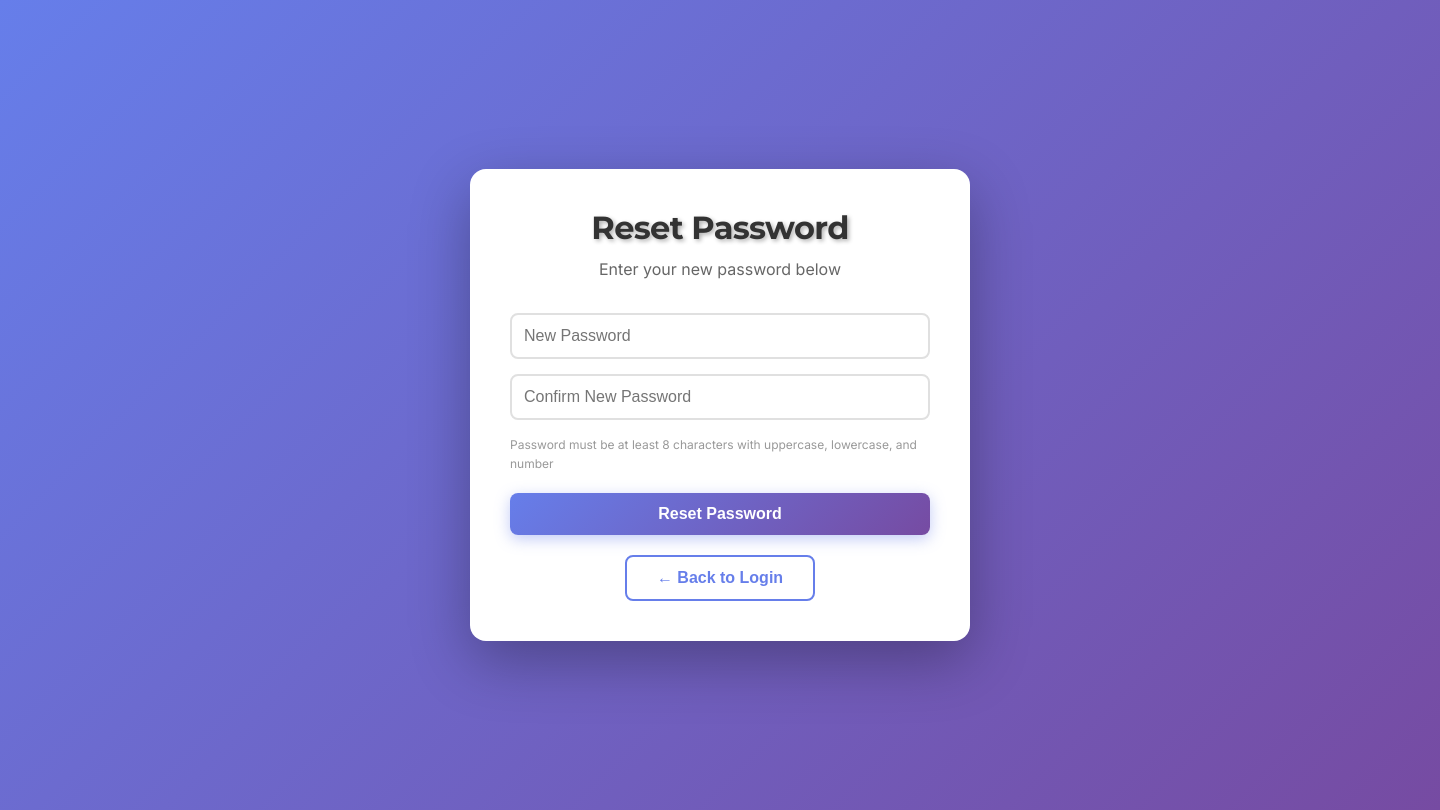
Scenario: ResetPassword Page › shows default error message on failure without specific error
Type "Password123" into the password field with placeholder "New Password".
click(720, 336); type("Password123")  # box x1=510 y1=313 x2=930 y2=359
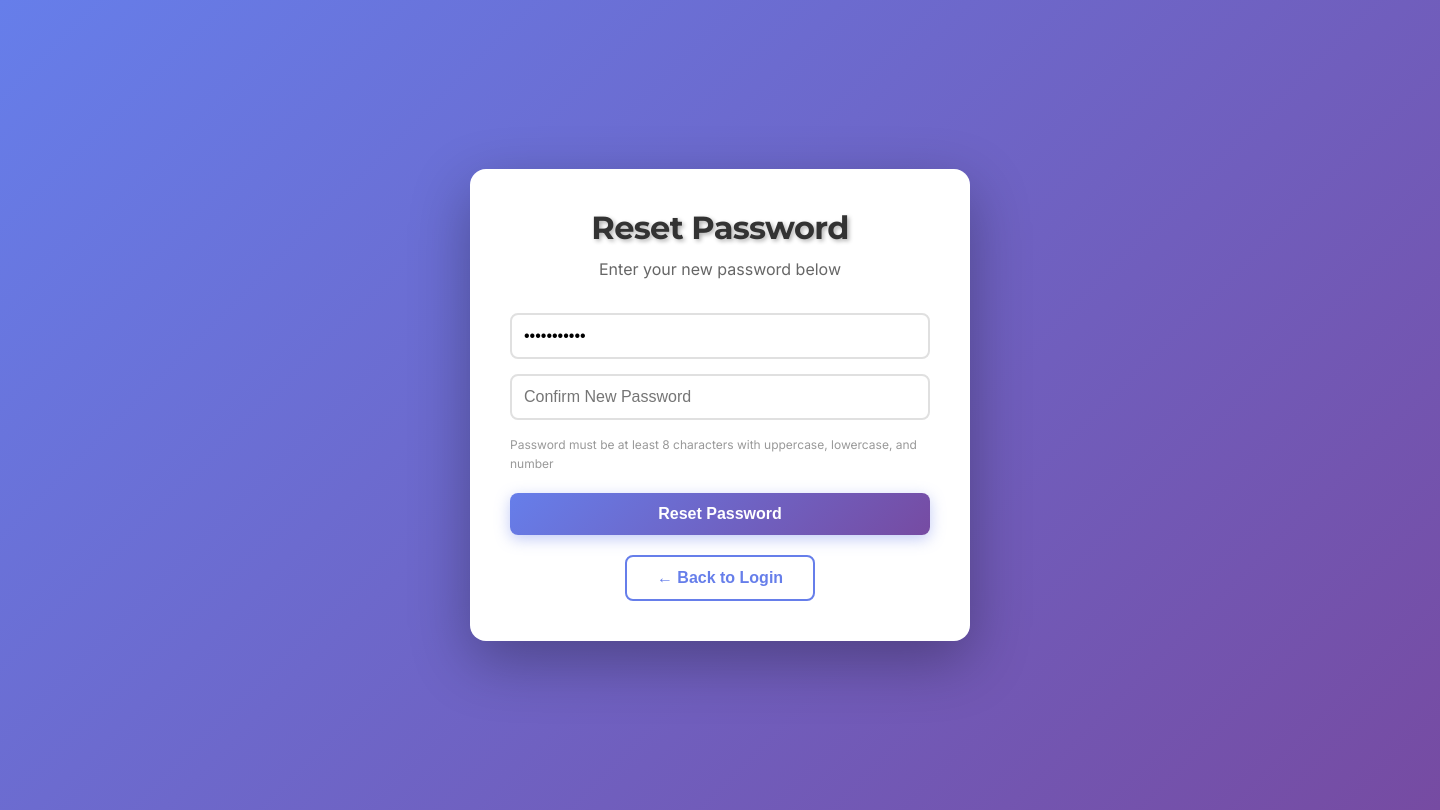
Type "Password123" into the password field with placeholder "Confirm New Password".
click(720, 397); type("Password123")  # box x1=510 y1=374 x2=930 y2=420
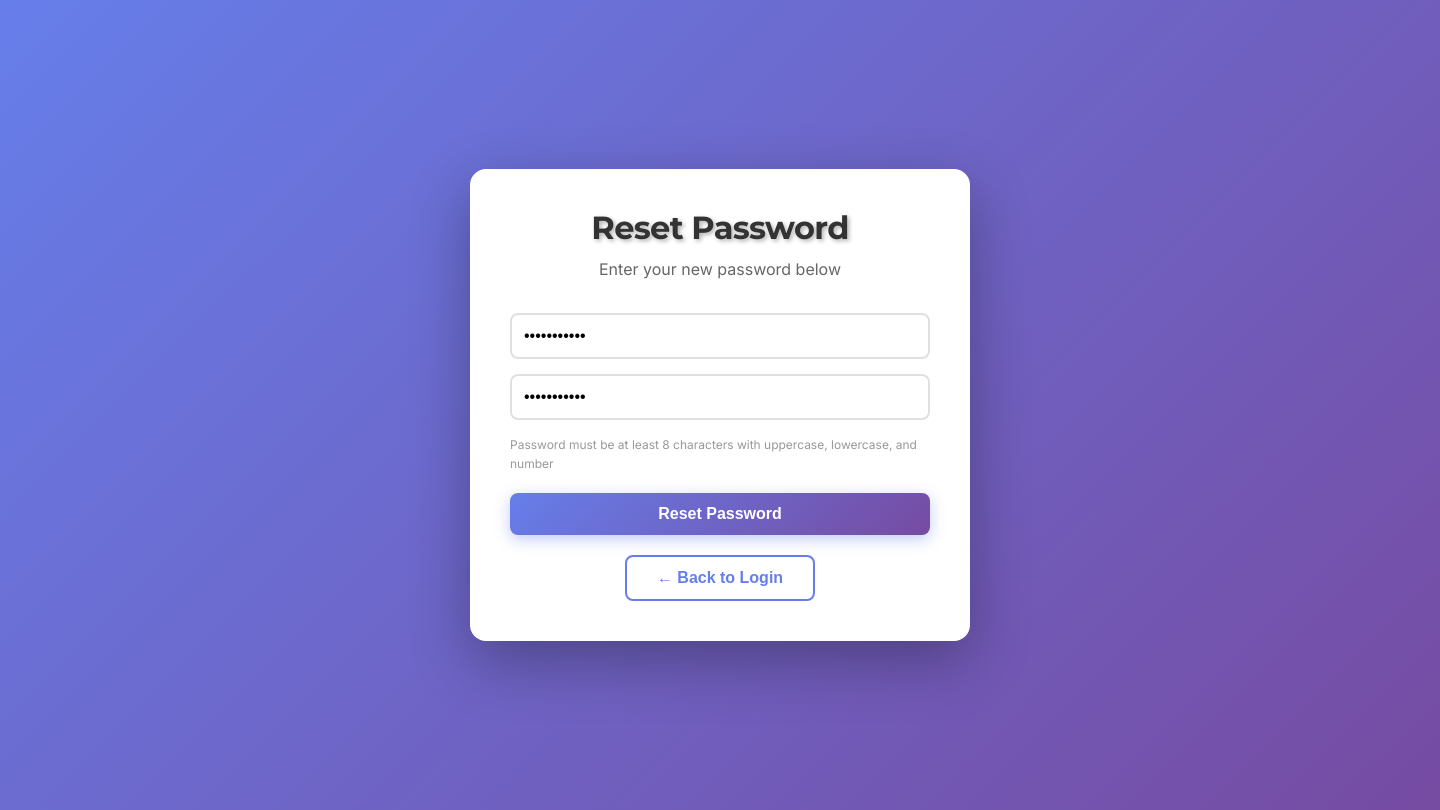
Click the button "Reset Password".
click(720, 514)  # box x1=510 y1=493 x2=930 y2=535
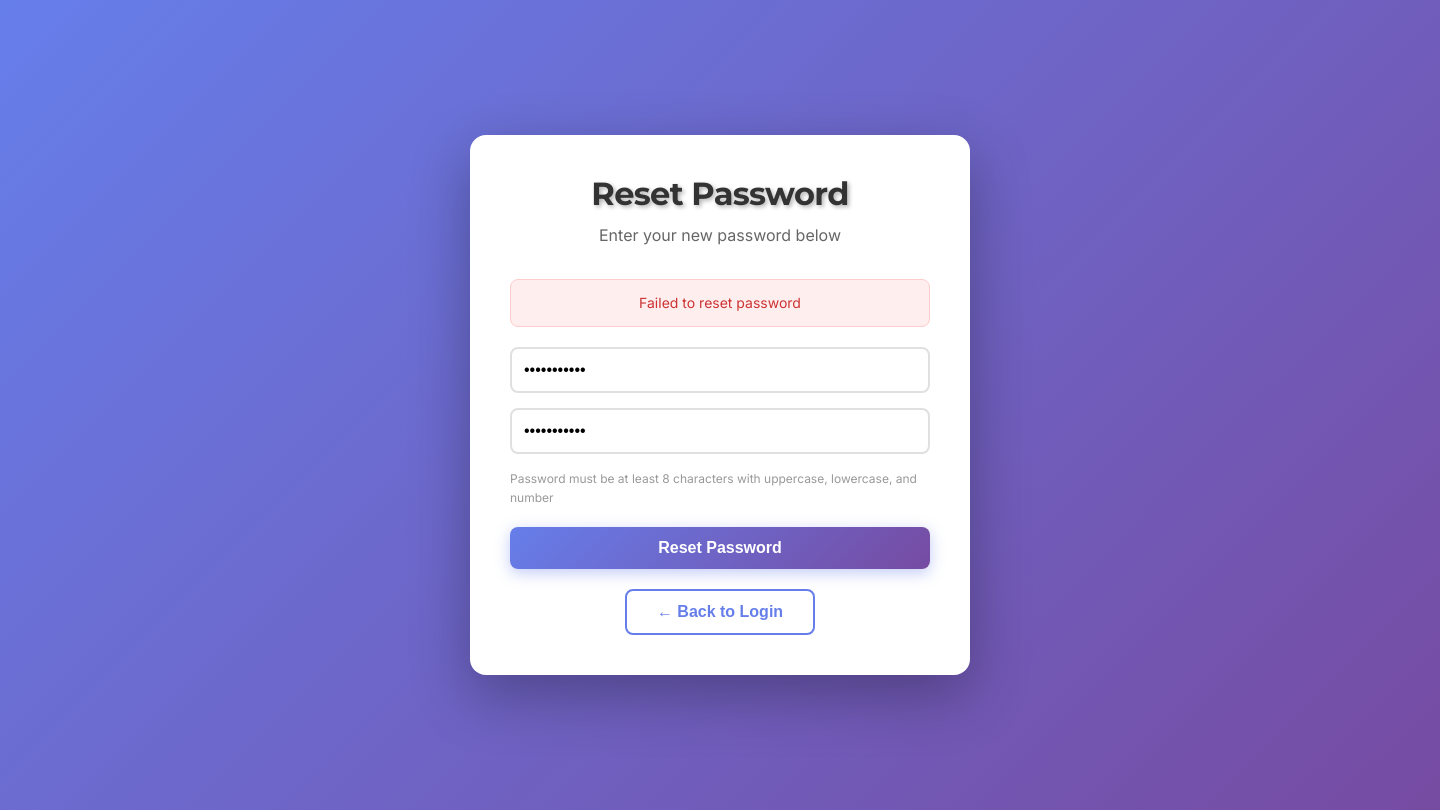
Expected: the text "Failed to reset password" is shown, x1=510 y1=279 x2=930 y2=327
